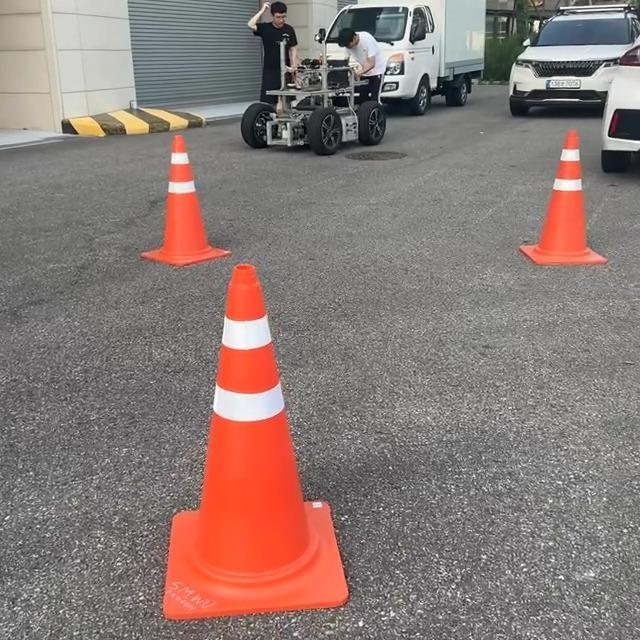fallen_object: (157, 249, 373, 640), (497, 115, 618, 281), (113, 107, 222, 263)
